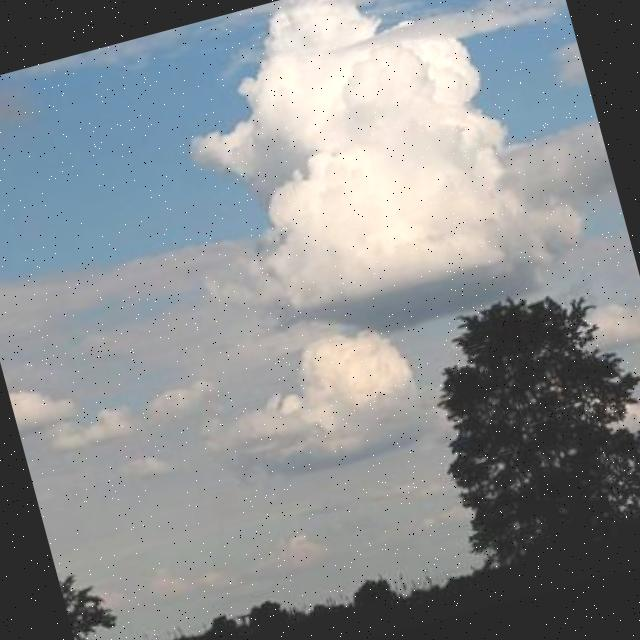Cs: (136, 1, 573, 383)
